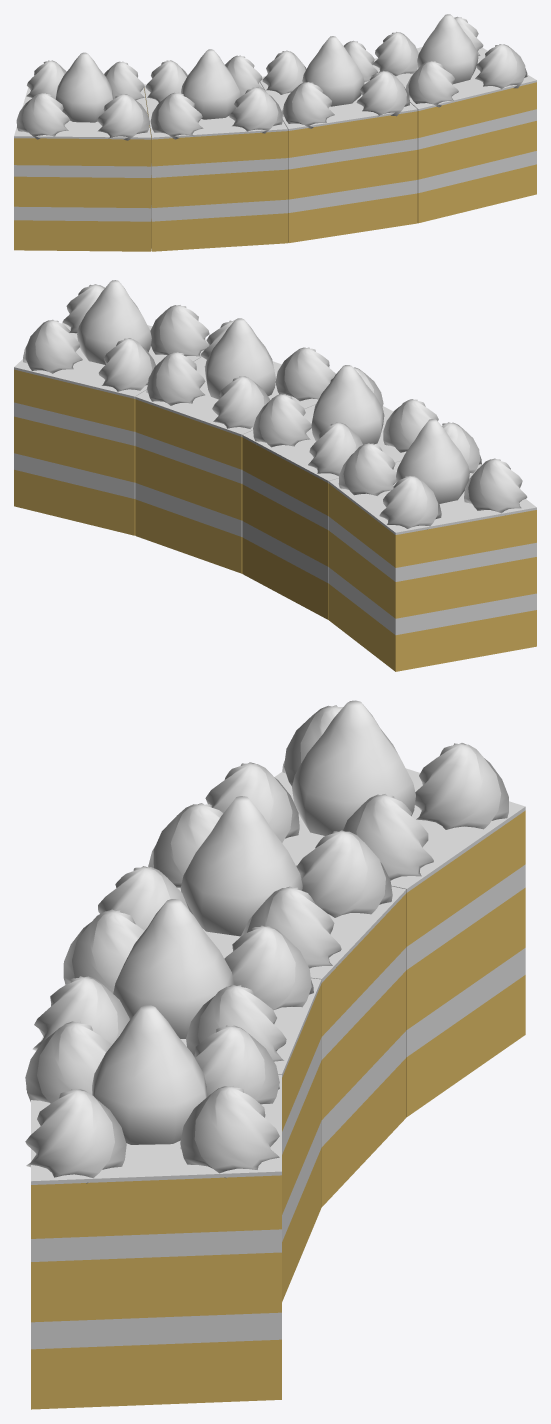
The model's file is cake_TS_move.fbx.
3 views of the same model, one above another, from view 1: azimuth 30°, elevation 25°; view 2: azimuth 150°, elevation 25°; view 3: azimuth 270°, elevation 25° (orthographic). The views are drawn at different scales.
Parts seen in each view (by area): view 1: 立方体; view 2: 立方体; view 3: 立方体.
Boxes of the visible parts, x1,y1,x2,y2 form: 立方体: [14, 14, 536, 251]; 立方体: [14, 280, 536, 671]; 立方体: [25, 700, 525, 1409].
Size of the model in its own units: 58.99 by 21.52 by 28.42.
